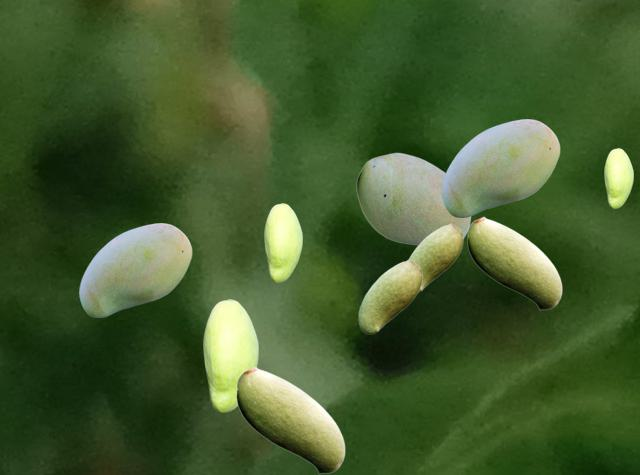green_mango: (236, 366, 344, 473), (441, 119, 559, 216), (356, 152, 470, 245), (79, 223, 191, 316), (467, 216, 561, 309), (203, 299, 257, 411), (358, 259, 421, 333), (408, 223, 462, 292), (264, 203, 301, 281), (604, 148, 632, 207)
